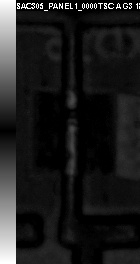led: (35, 92, 116, 174)
